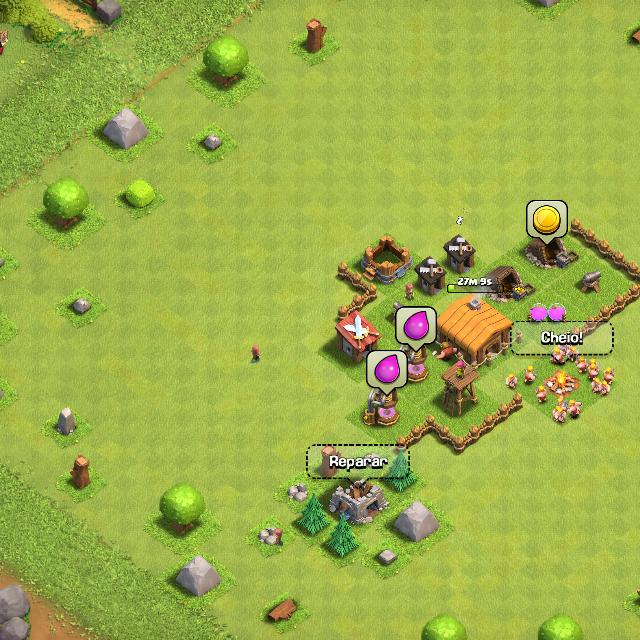Elixir: (395, 306, 437, 352), (367, 350, 408, 397)
coin: (527, 200, 567, 244)
